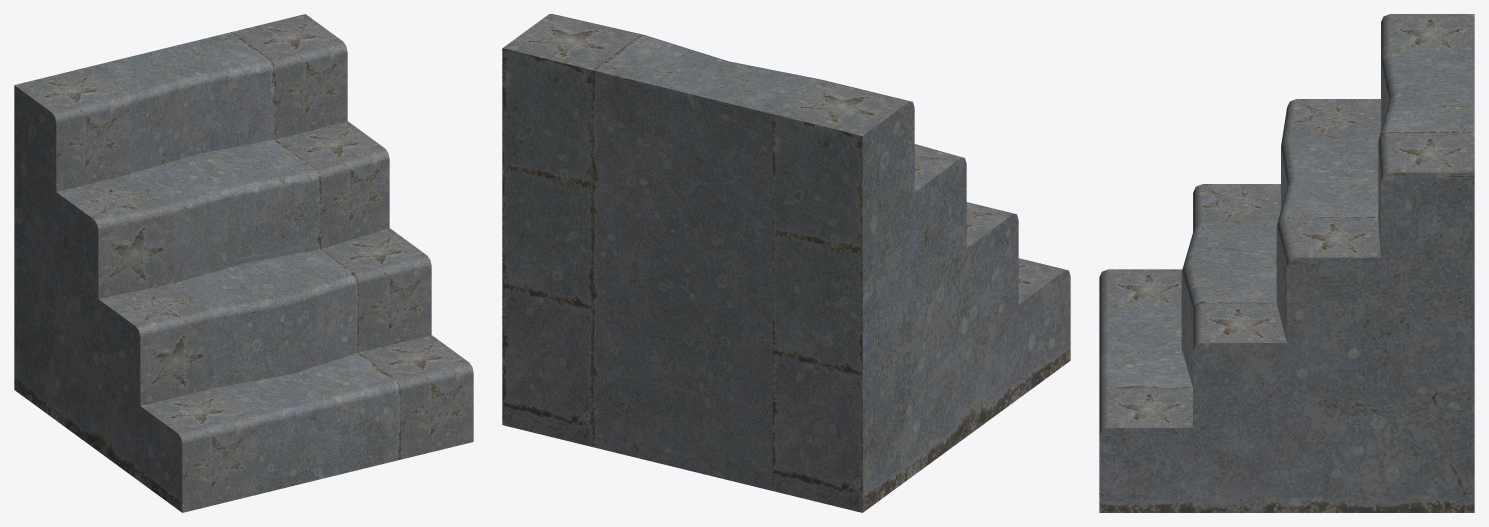
The model's file is Stairs.fbx.
3 renders of one model, left to right at view 1: azimuth 30°, elevation 25°; view 2: azimuth 150°, elevation 25°; view 3: azimuth 270°, elevation 25°, orthographic. The views are drawn at different scales.
Parts seen in each view (by area): view 1: pCube7; view 2: pCube7; view 3: pCube7.
Part boxes in pixels (left/top/right/bottom): pCube7: left=14, top=14, right=473, bottom=512; pCube7: left=502, top=14, right=1070, bottom=512; pCube7: left=1099, top=14, right=1474, bottom=512.
Size of the model in its own units: 100 by 100 by 100.
